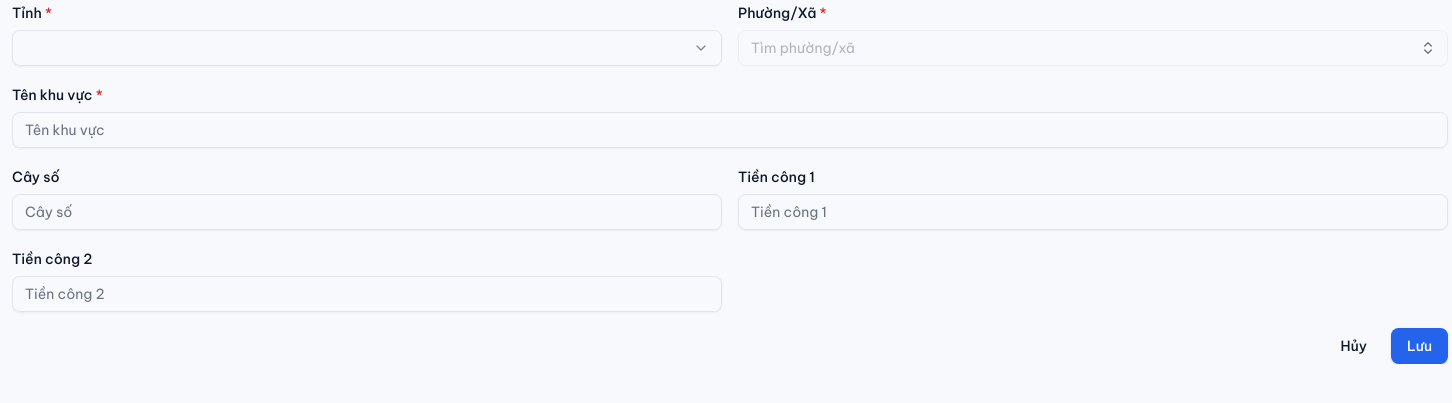
Test: QuickCreateKhuVuc › blocks save without a commune (commune required)
In the field labelled "Tên khu vực *": (730,130) [12,112,1448,148], type "KV Test"
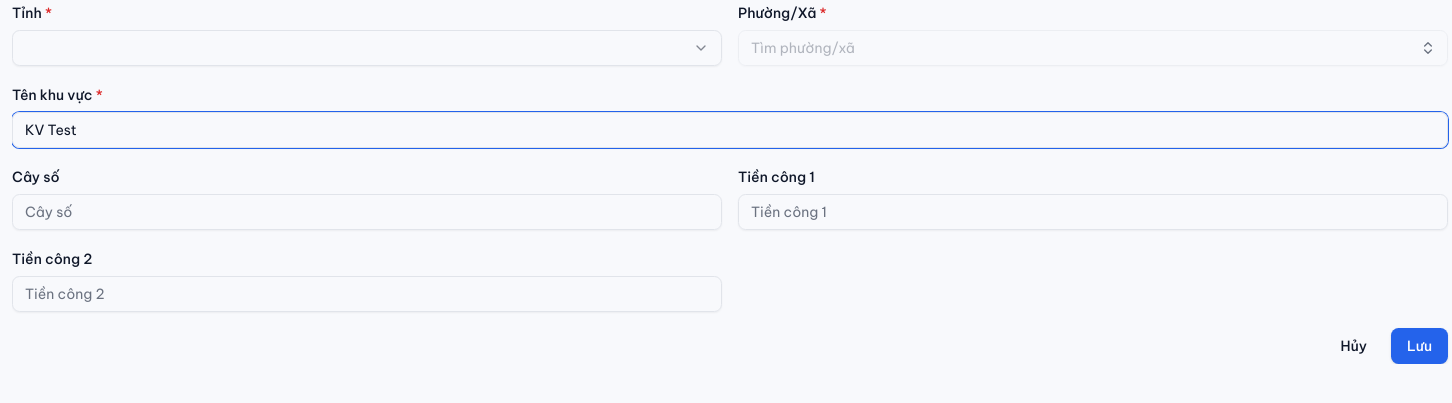
Click the button "Lưu": (1420,346) [1391,328,1448,364]
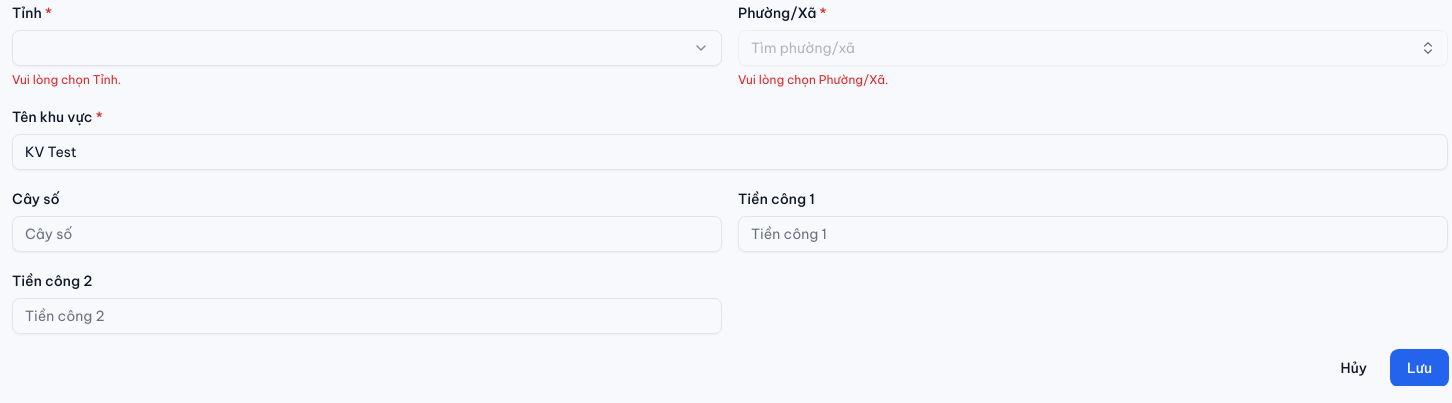
expect the text "Vui lòng chọn Phường/Xã." is shown: met, box [738,72,888,87]
